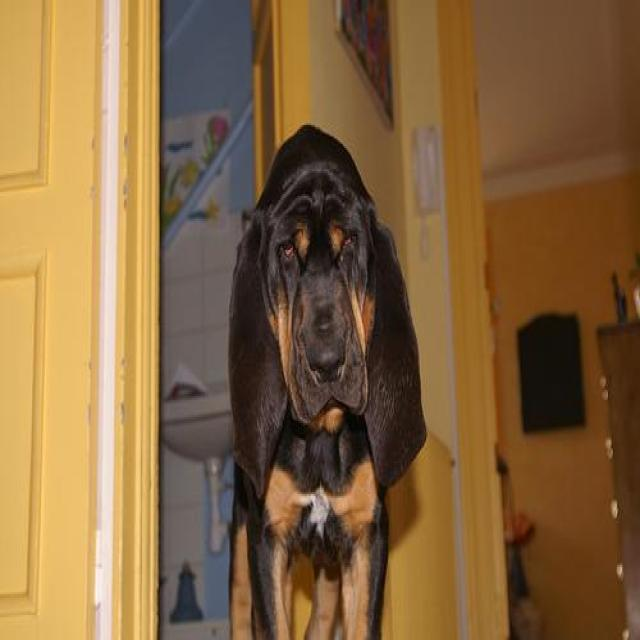bloodhound: (219, 119, 427, 638)
